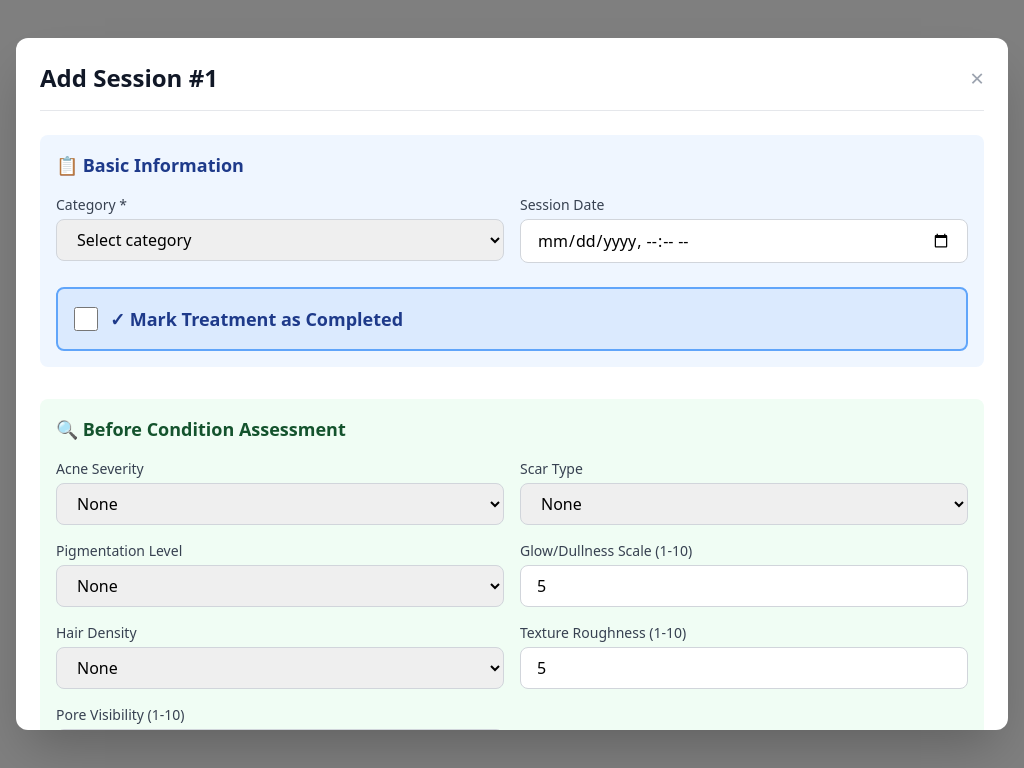
Test case: AddSessionModal › should show after treatment section when completed is checked
expect the text "📝 After Treatment" is not shown: met
// Check the checkbox
Click the checkbox with test id "treatment-completed-checkbox-main" at (86, 319), box [74,307,98,331]
(page scrolled)
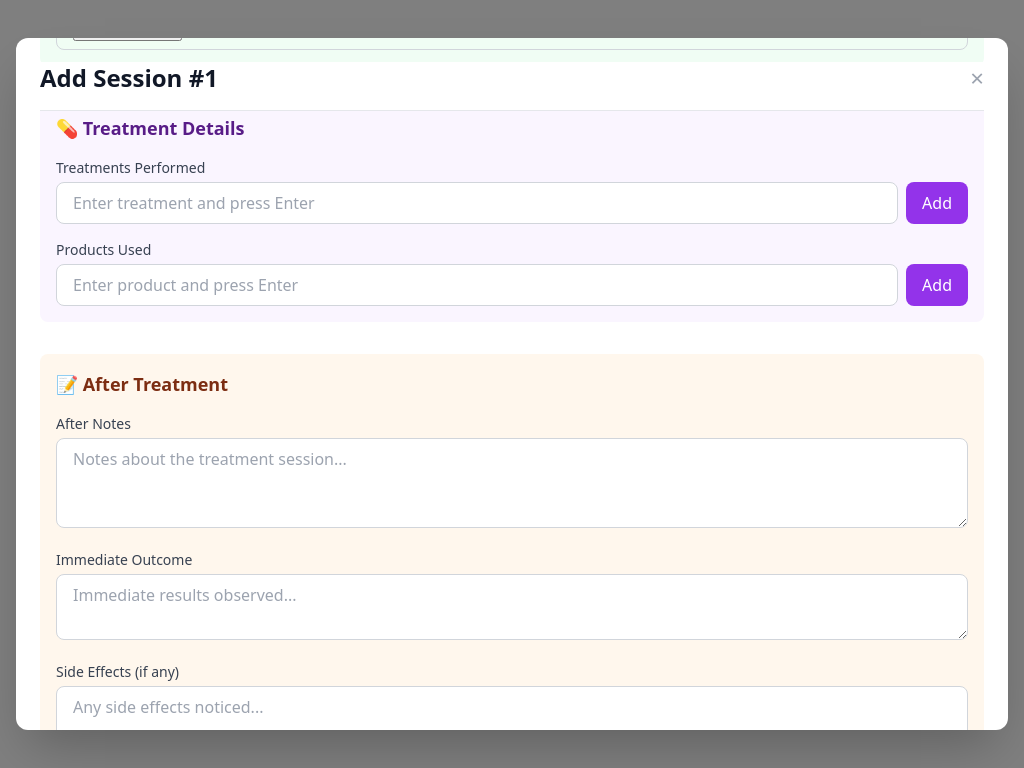
expect the heading "📝 After Treatment" is shown: met, box [56,372,228,396]
